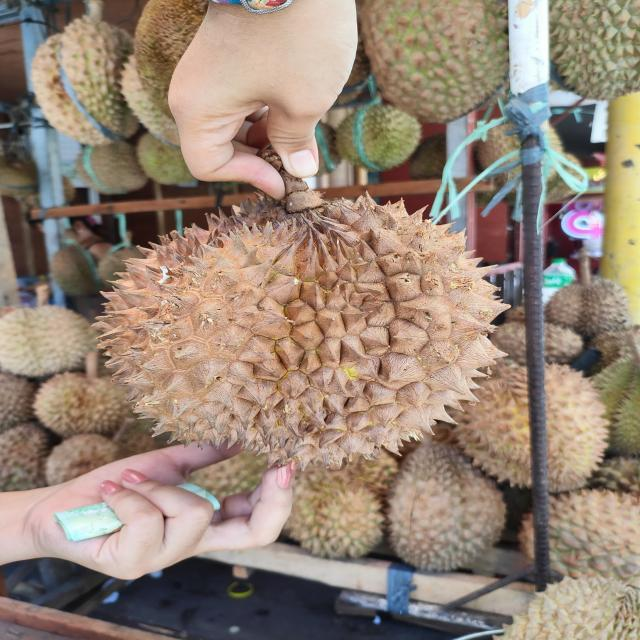mature: (85, 193, 515, 474)
